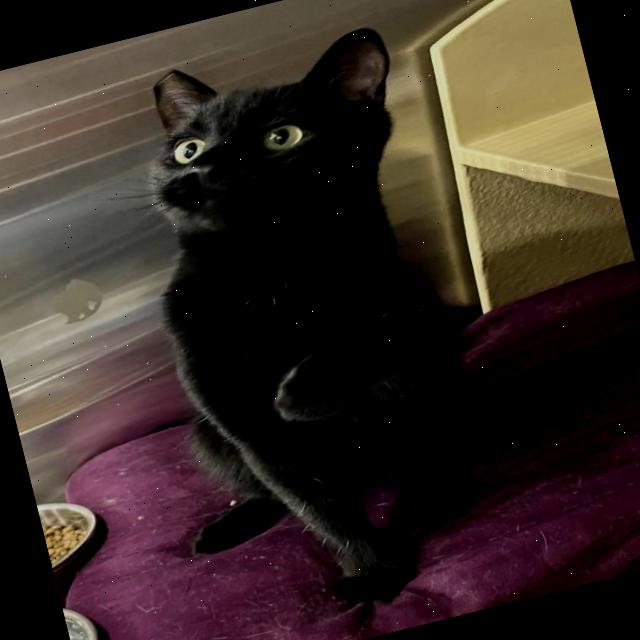bombay_cat: (90, 2, 439, 282)
